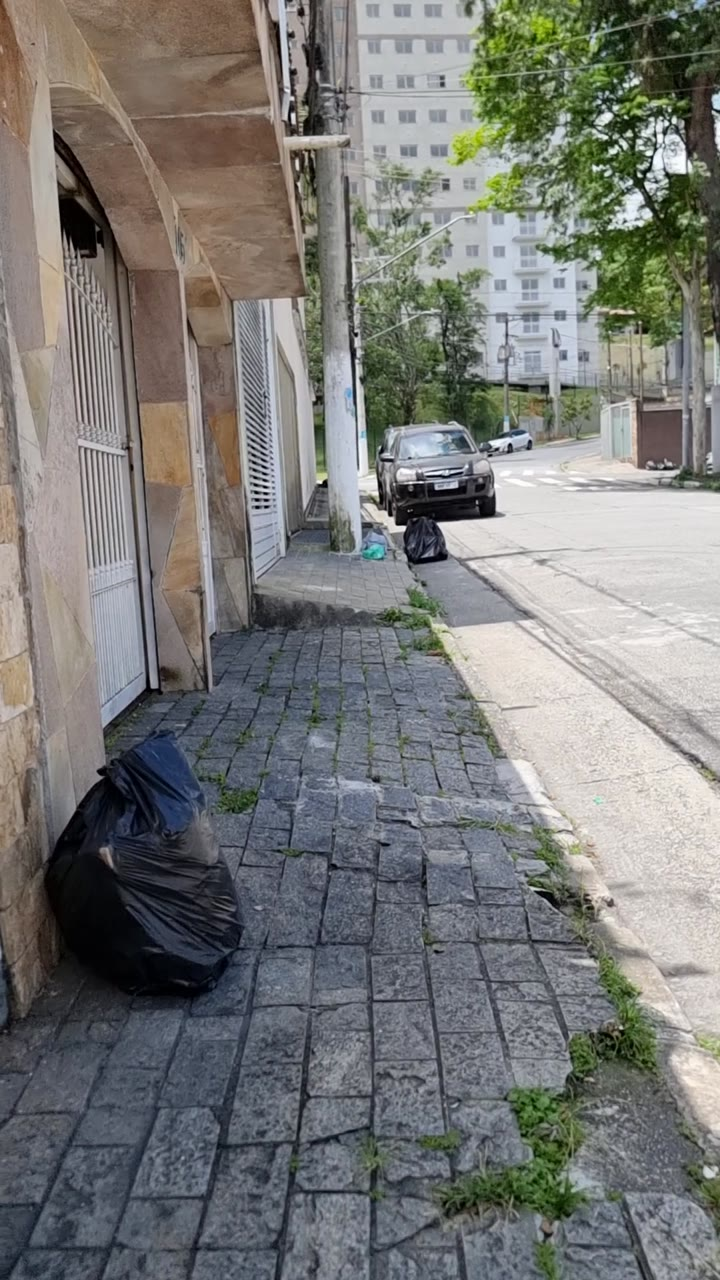obstaculo: (47, 734, 242, 994), (338, 0, 382, 550), (362, 525, 387, 560)
